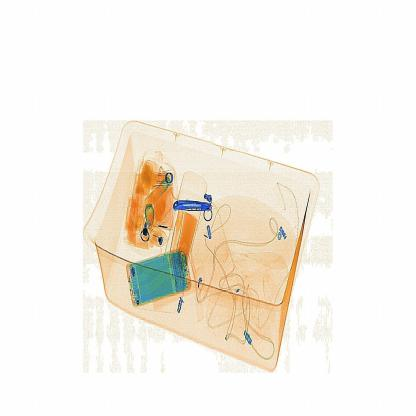knife: (170, 192, 222, 215)
